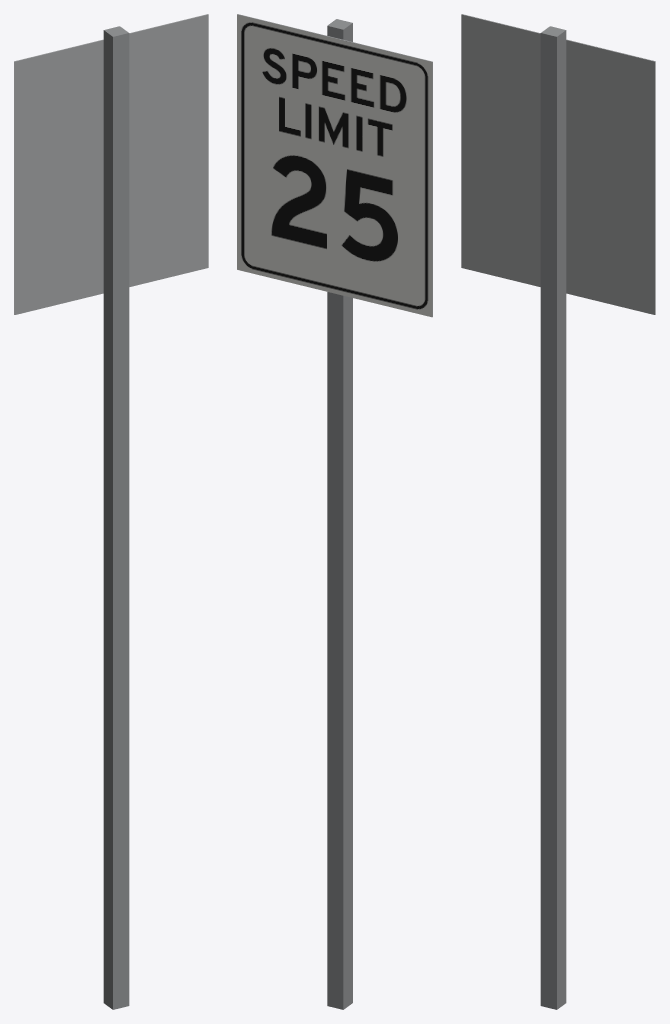
Rendered from sign_r2-1_speed_25.glb.
The picture shows the model from 3 angles, left to right: view 1: azimuth 30°, elevation 25°; view 2: azimuth 150°, elevation 25°; view 3: azimuth 330°, elevation 25°; orthographic projection.
Visible parts, largest first — view 1: sign_r2-1_speed_25; view 2: sign_r2-1_speed_25; view 3: sign_r2-1_speed_25.
Part boxes in pixels (x1=…): sign_r2-1_speed_25: x1=14, y1=14, x2=208, y2=1009; sign_r2-1_speed_25: x1=237, y1=14, x2=432, y2=1009; sign_r2-1_speed_25: x1=461, y1=14, x2=655, y2=1009.
Size of the model in its own units: 0.6096 by 2.93 by 0.0543.
Materials: 3 (1 with a texture image).
